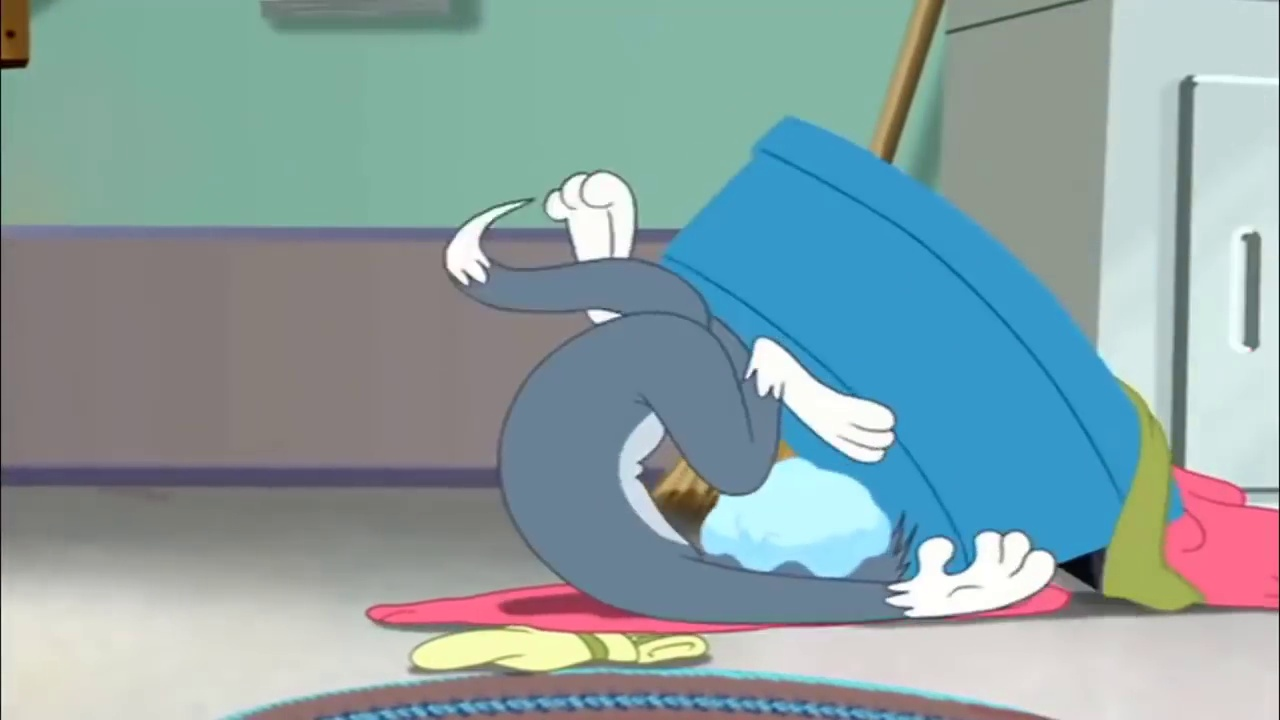face: (706, 484, 921, 580)
